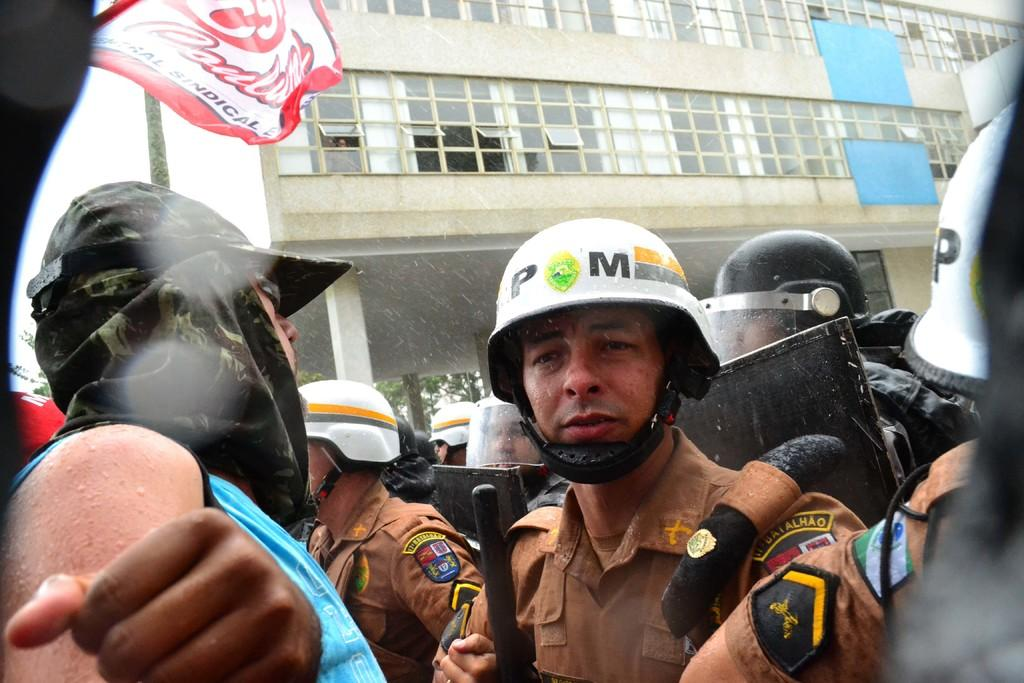Hat: (32, 178, 362, 526)
